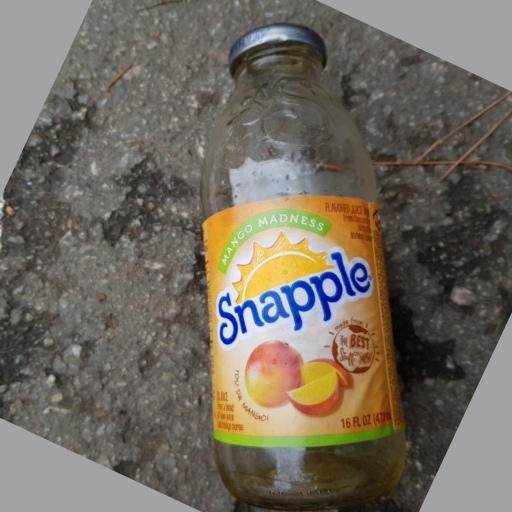Glass_4: (203, 26, 407, 512)
